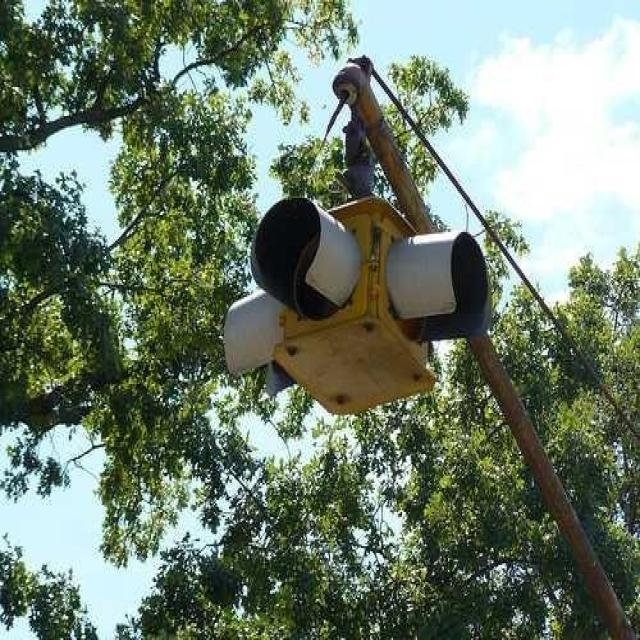Traffic Light -Off-: (246, 188, 380, 375)
